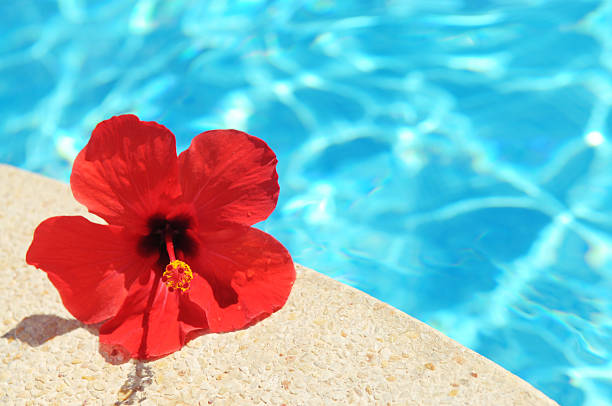Hibiscus: (25, 111, 297, 376)
